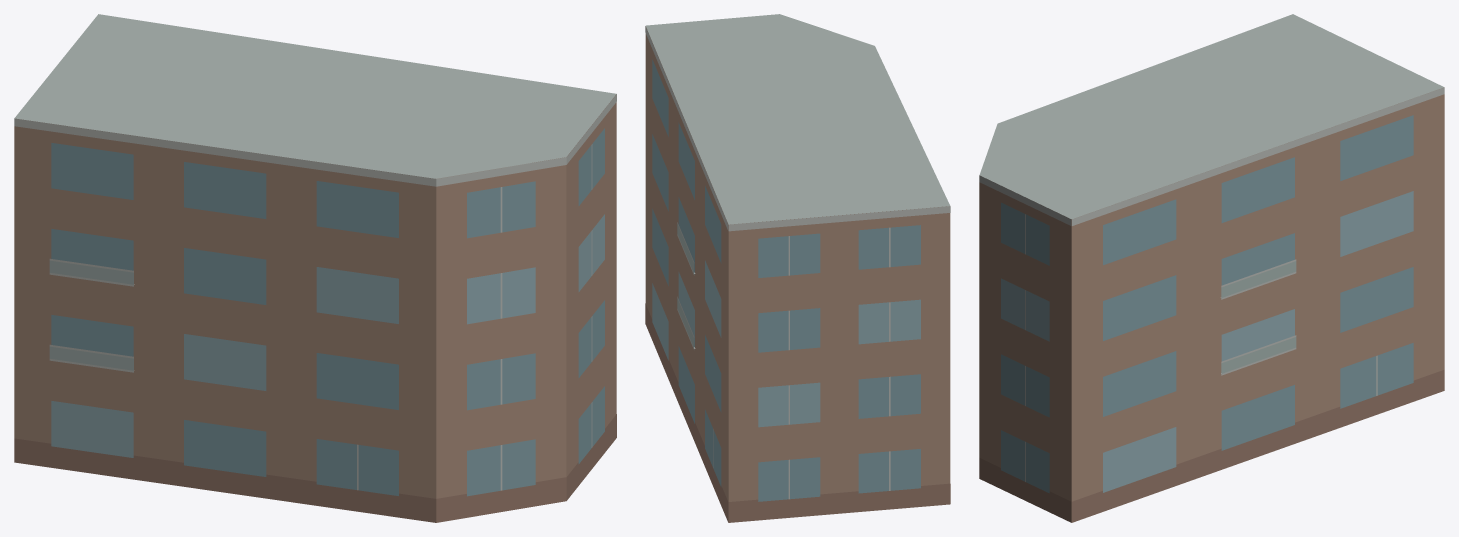
File: survey-upis-32889573.glb
3 views of the same model, side by side, from view 1: azimuth 30°, elevation 25°; view 2: azimuth 150°, elevation 25°; view 3: azimuth 270°, elevation 25° (orthographic). The views are drawn at different scales.
Parts seen in each view (by area): view 1: survey-upis-32889573.tmp; view 2: survey-upis-32889573.tmp; view 3: survey-upis-32889573.tmp.
Part boxes in pixels (x1,y1,x2,y2): survey-upis-32889573.tmp: (14,14,616,522); survey-upis-32889573.tmp: (645,14,950,522); survey-upis-32889573.tmp: (979,14,1444,522).
Bounding box in the file's own units: 15.54 × 10.7 × 14.87.
